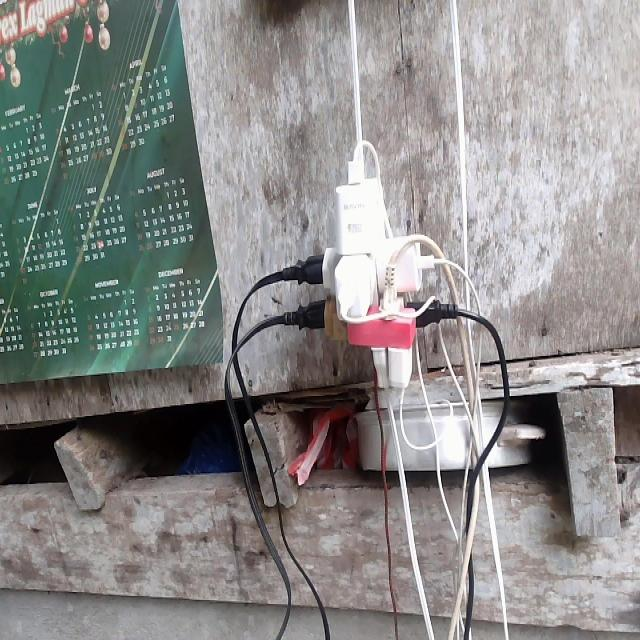-: (301, 149, 458, 399)
